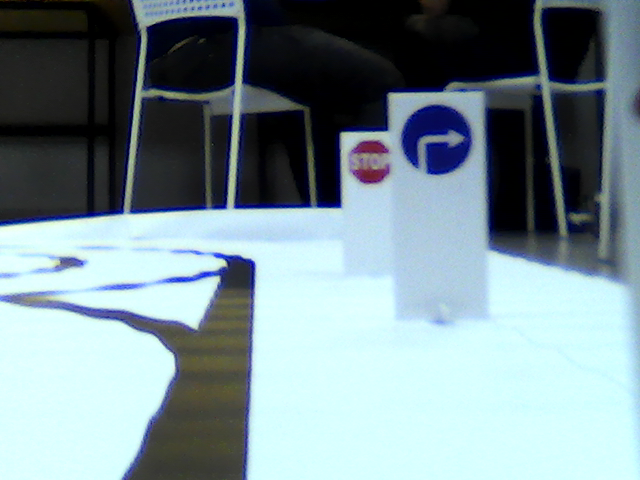Right: (399, 102, 475, 176)
Stop: (348, 136, 392, 185)
